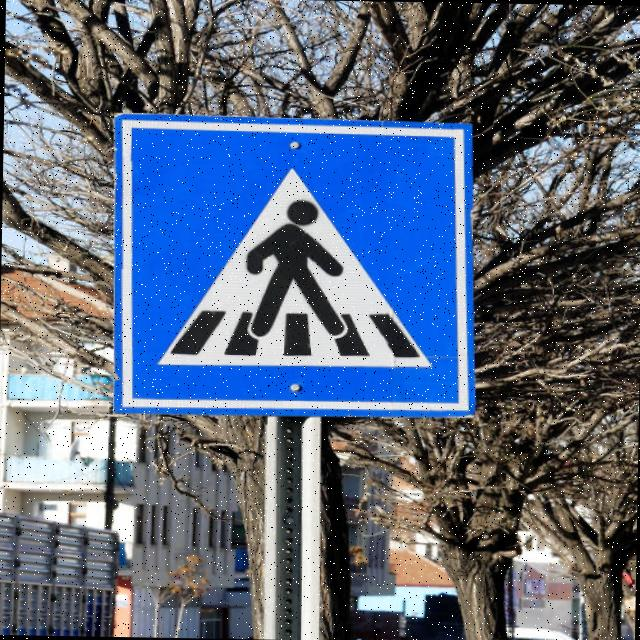crosswalk: (83, 94, 490, 438)
